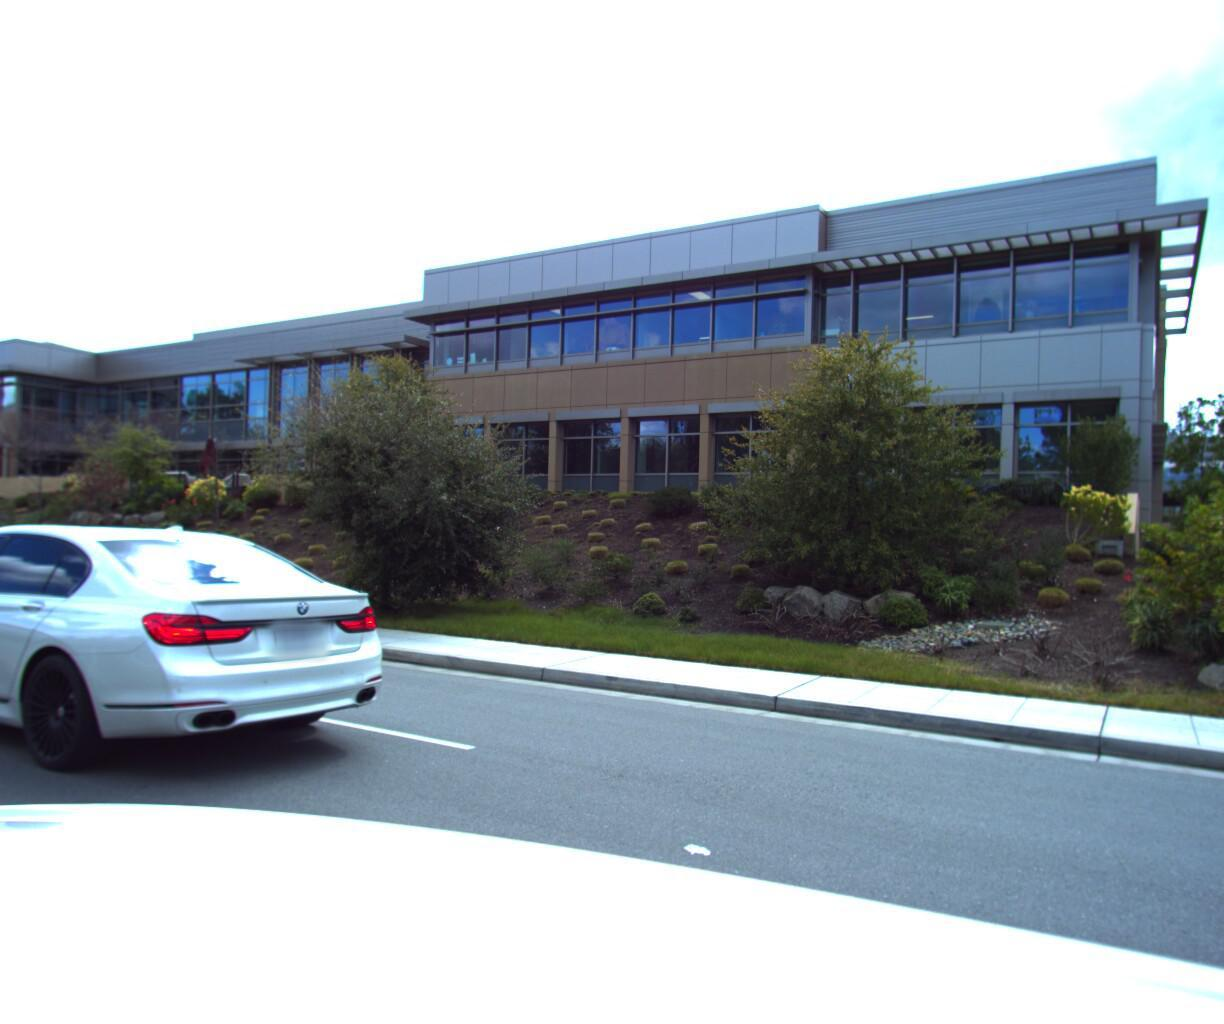car: (0, 519, 428, 842)
